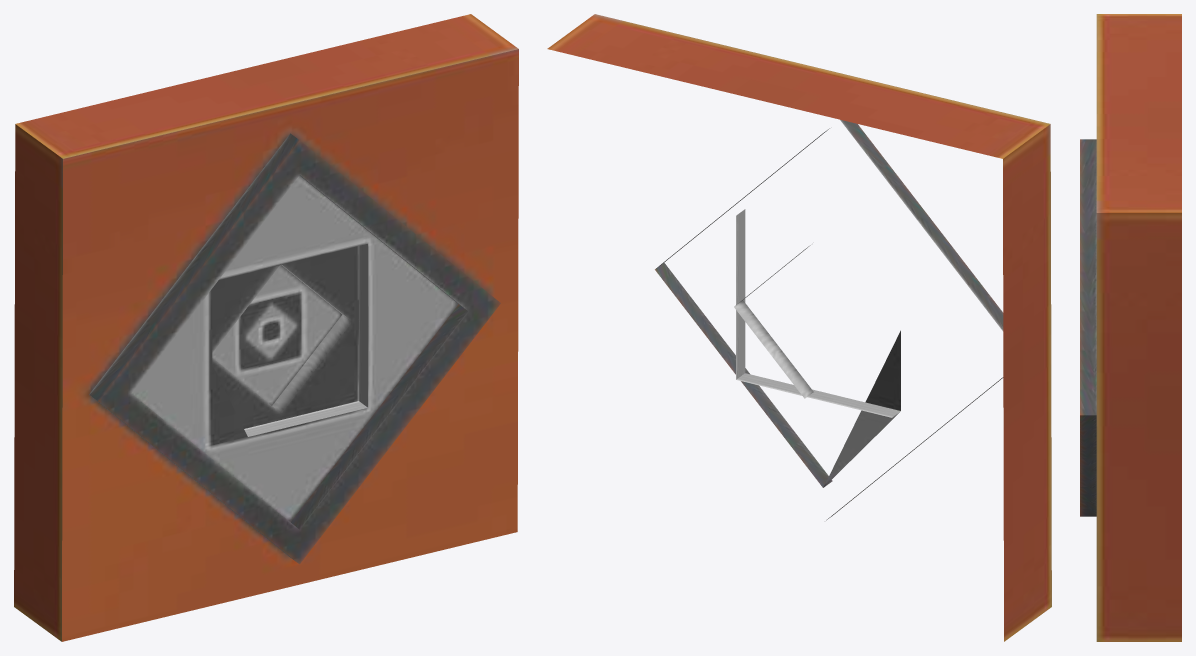
The model's file is Panel_Camera.glb.
3 views of the same model, side by side, from view 1: azimuth 30°, elevation 25°; view 2: azimuth 150°, elevation 25°; view 3: azimuth 270°, elevation 25° (orthographic). The views are drawn at different scales.
Parts seen in each view (by area): view 1: Panel_Camera; view 2: Panel_Camera; view 3: Panel_Camera.
Part boxes in pixels (bbox=[...]): Panel_Camera: bbox=[14, 14, 518, 641]; Panel_Camera: bbox=[547, 14, 1051, 641]; Panel_Camera: bbox=[1080, 14, 1181, 641].
Size of the model in its own units: 0.2904 by 0.2939 by 0.0629.
Materials: 1 (1 with a texture image).
